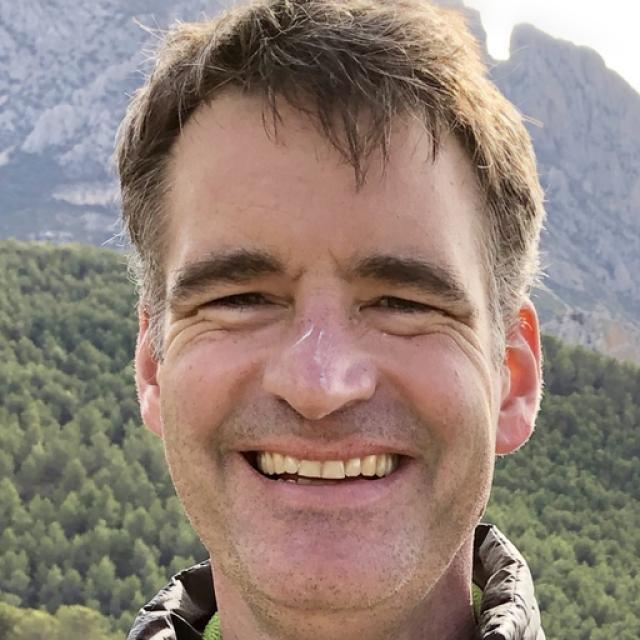happy: (157, 105, 503, 618)
